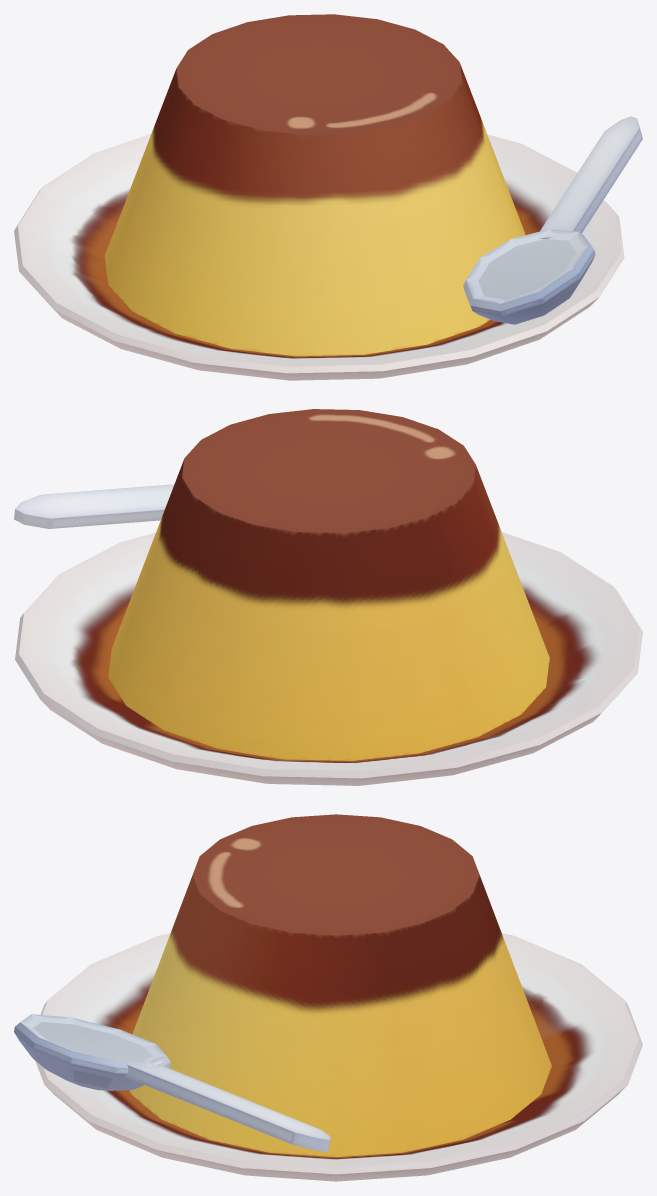
File: pudding.gltf
3 renders of one model, top to bottom at view 1: azimuth 30°, elevation 25°; view 2: azimuth 150°, elevation 25°; view 3: azimuth 270°, elevation 25°, orthographic. The views are drawn at different scales.
Parts seen in each view (by area): view 1: Pudding, Plate, Spoon, SpoonBottom; view 2: Pudding, Plate, SpoonBottom; view 3: Pudding, Plate, Spoon, SpoonBottom.
Part boxes in pixels (x1,y1,x2,y2): Pudding: [104, 14, 525, 356]; Plate: [14, 134, 624, 380]; Spoon: [463, 229, 595, 324]; SpoonBottom: [538, 116, 642, 238]; Pudding: [108, 409, 549, 760]; Plate: [15, 532, 642, 785]; SpoonBottom: [14, 484, 174, 528]; Pudding: [129, 814, 551, 1157]; Plate: [35, 933, 642, 1181]; Spoon: [14, 1014, 170, 1090]; SpoonBottom: [124, 1060, 330, 1151].
Size of the model in its own units: 3.4 by 1.09 by 3.21.
Materials: 1 (1 with a texture image).
